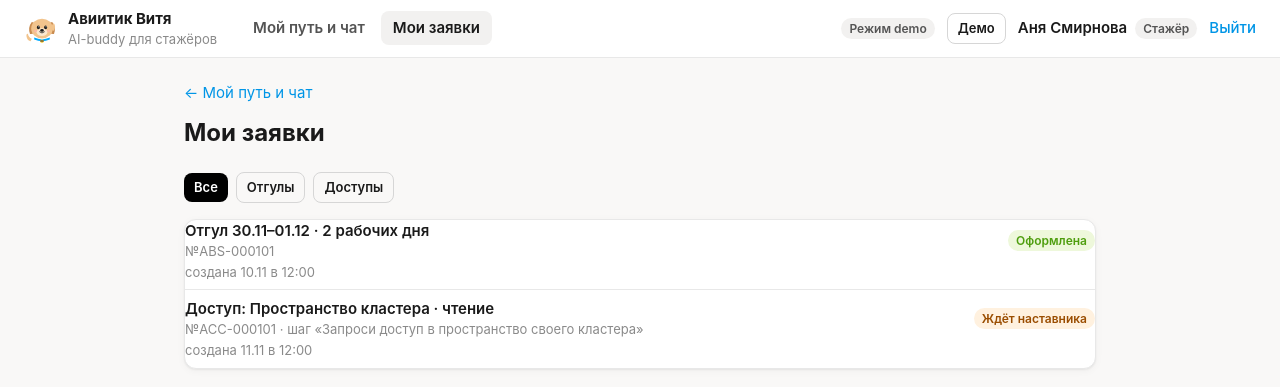
Test: «Мои заявки» and /requests (wave 5) › /requests: list with filters, empty and error states
Check: the text "Отгул 30.11–01.12 · 2 рабочих дня" is shown, box x1=185 y1=220 x2=429 y2=242
Check: the text "Доступ: Пространство кластера · чтение" is shown, box x1=185 y1=299 x2=494 y2=318
Click the button "Доступы" at point(354, 188), box x1=313 y1=172 x2=394 y2=203
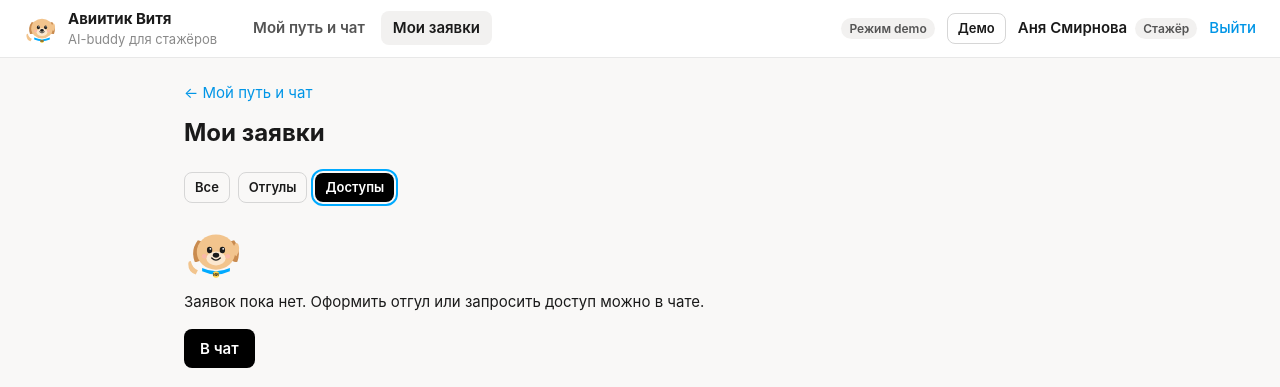
Check: the text "Заявок пока нет" is shown, box x1=184 y1=292 x2=704 y2=311
